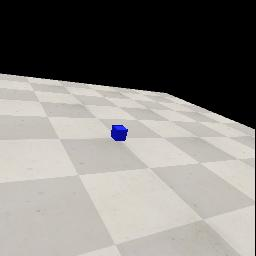box: (111, 125, 128, 141)
